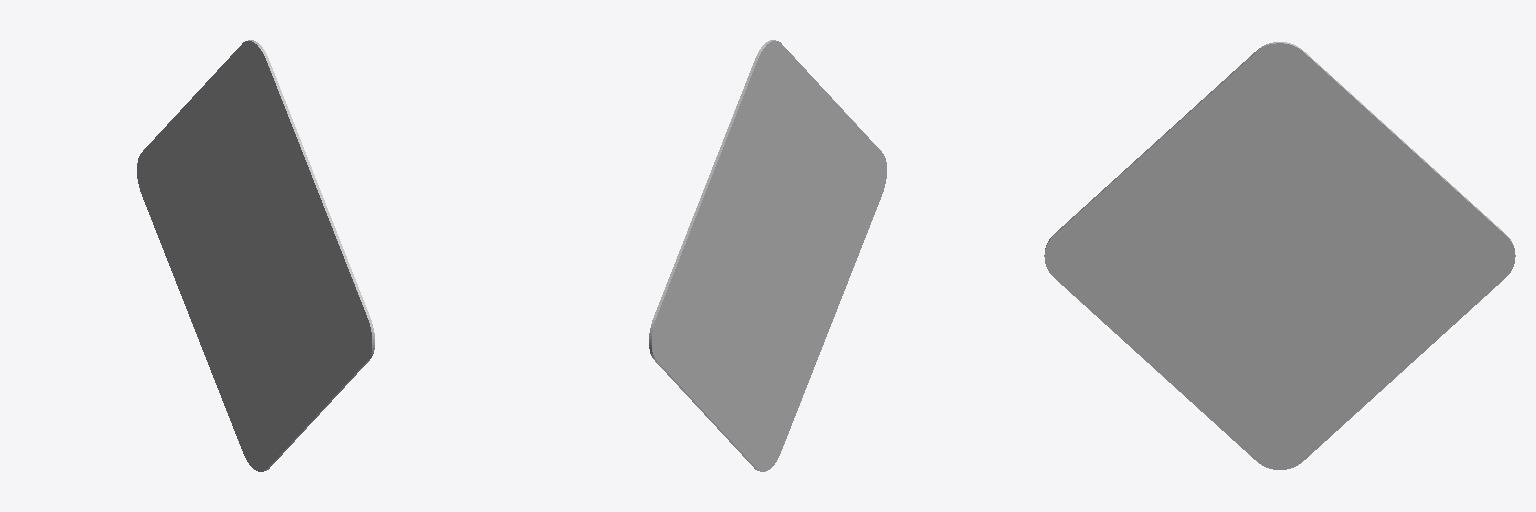
The model's file is goaltransparency.obj.
3 renders of one model, left to right at view 1: azimuth 30°, elevation 25°; view 2: azimuth 150°, elevation 25°; view 3: azimuth 270°, elevation 25°, orthographic.
Visible parts, largest first — view 1: goaltransparency; view 2: goaltransparency; view 3: goaltransparency.
Part boxes in pixels (x1,y1,x2,y2): goaltransparency: (137, 40, 374, 471); goaltransparency: (649, 40, 886, 471); goaltransparency: (1044, 42, 1515, 469).
Bounding box in the file's own units: 0.02 × 2.99 × 2.99.